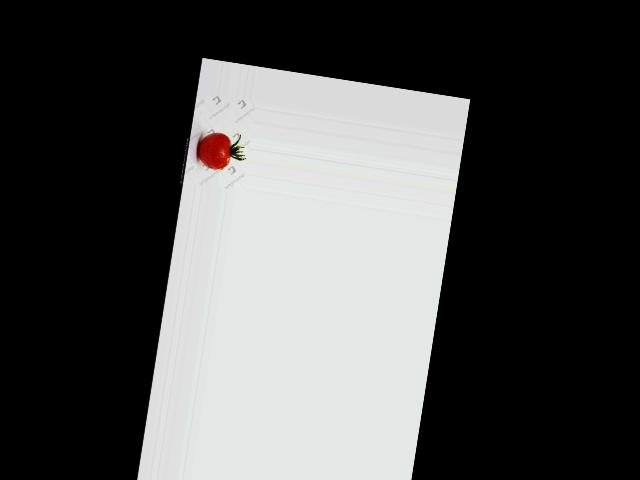tomato: (195, 129, 232, 170)
